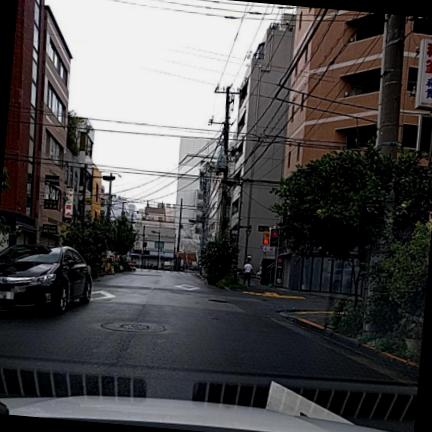Road: (0, 270, 415, 418)
